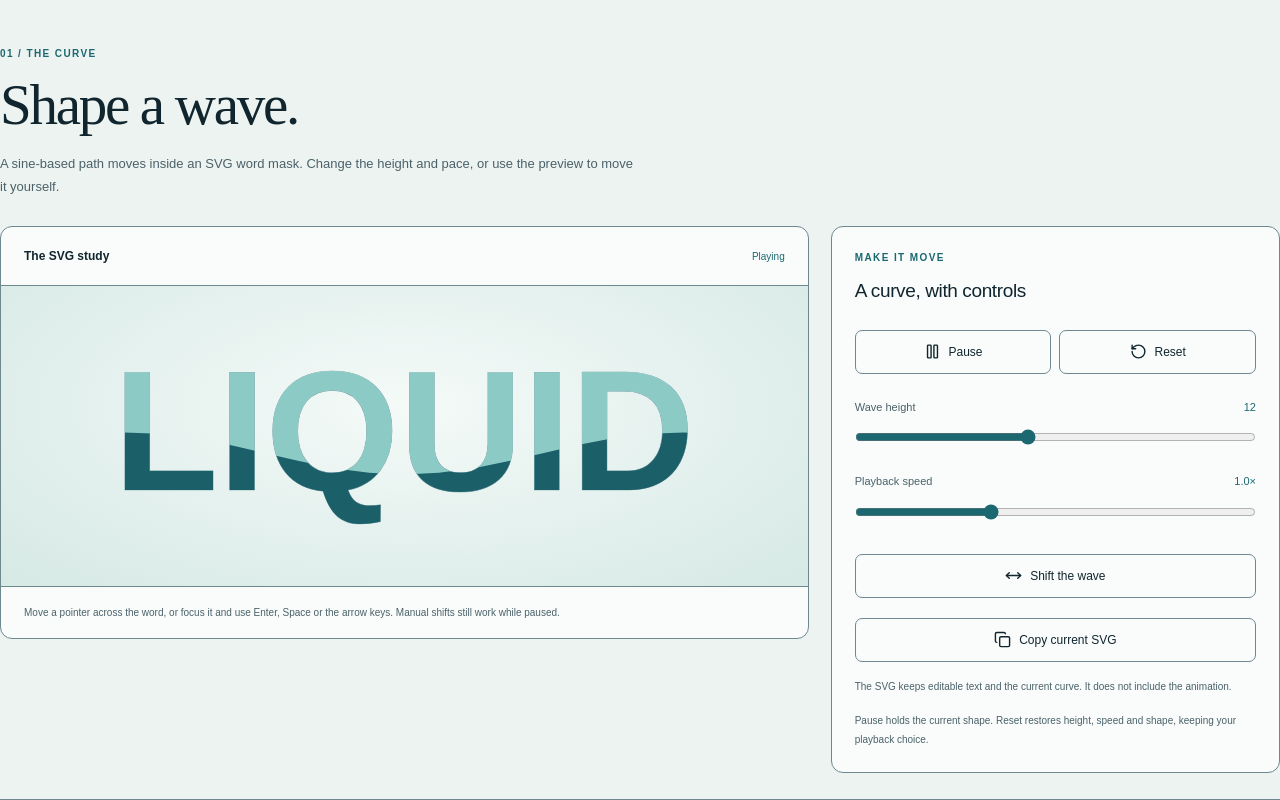
Test case: copies the actual current standalone SVG and exposes manual copy on clipboard failure
Click the button "Pause" at coordinates (953, 352), box [855, 330, 1051, 374]
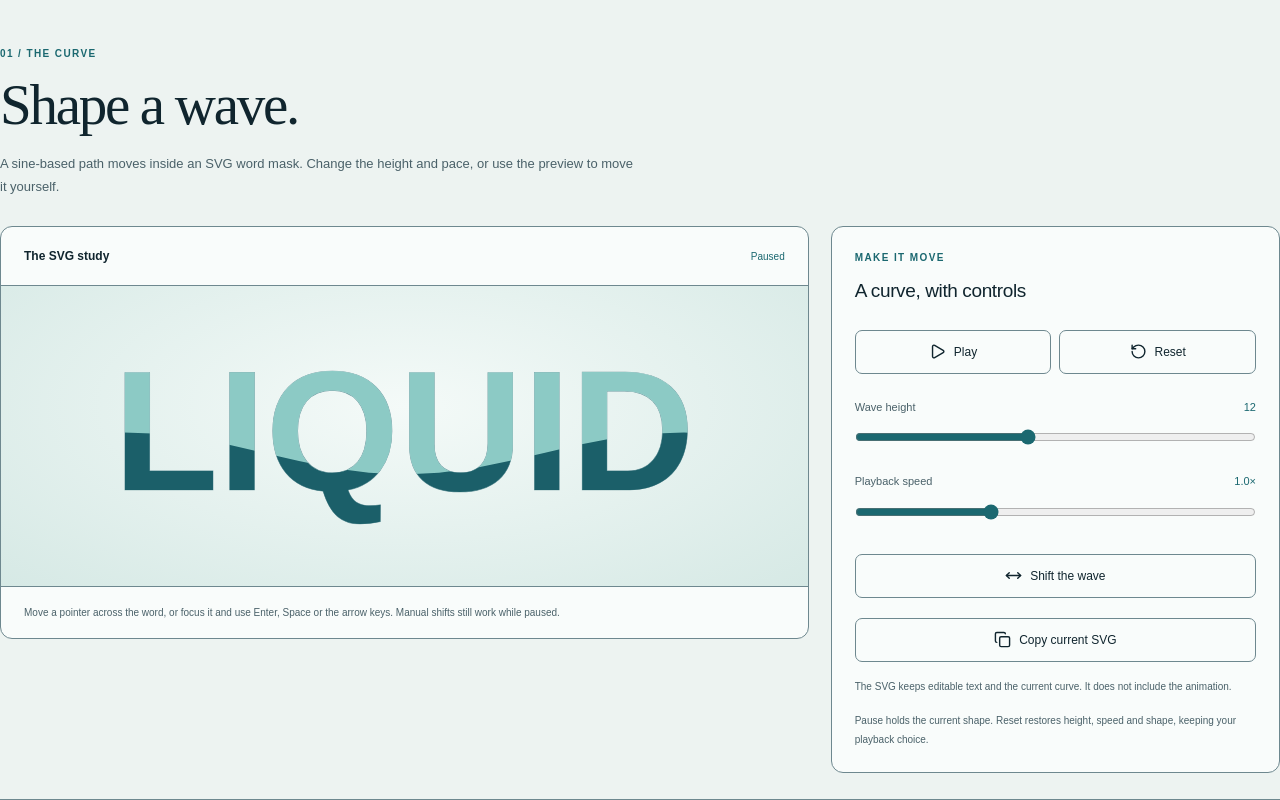
Click the button "Shift the wave" at coordinates (1055, 576), box [855, 554, 1256, 598]
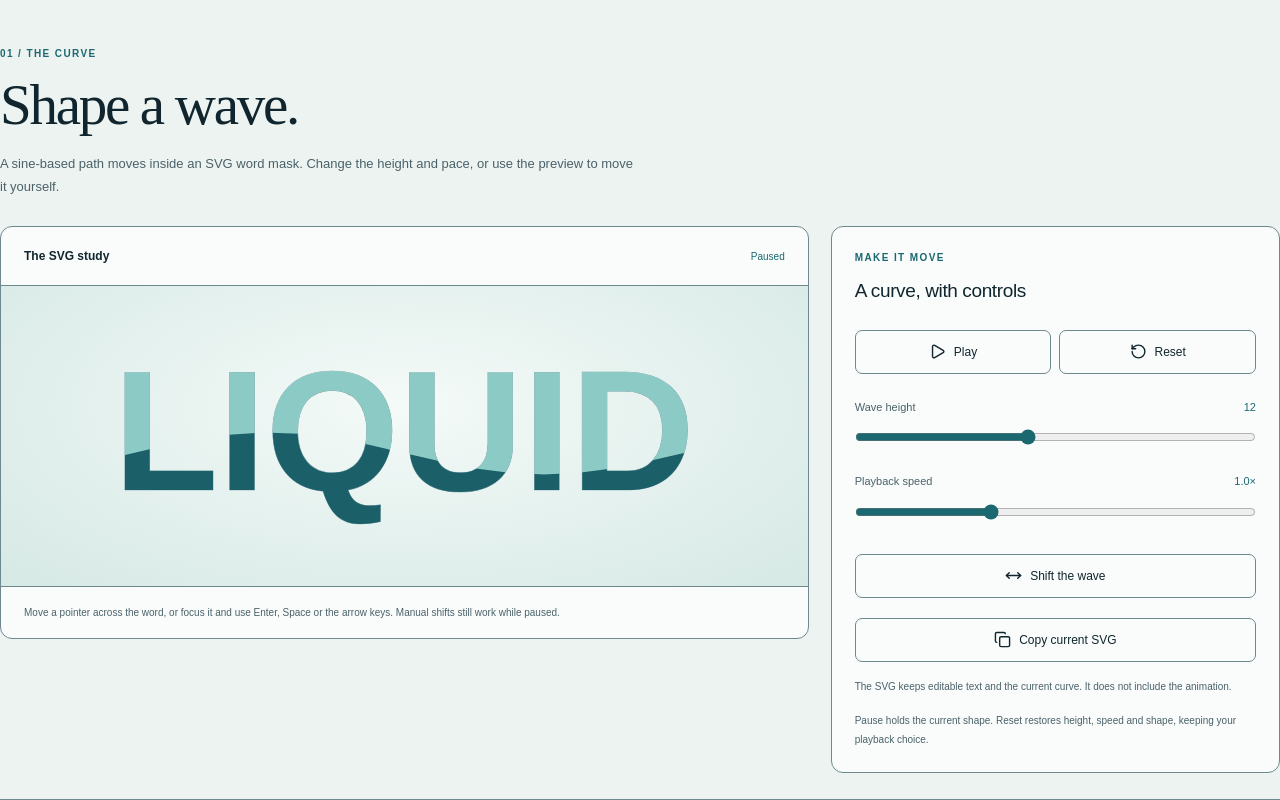
Click the button "Copy current SVG" at coordinates (1055, 640), box [855, 618, 1256, 662]
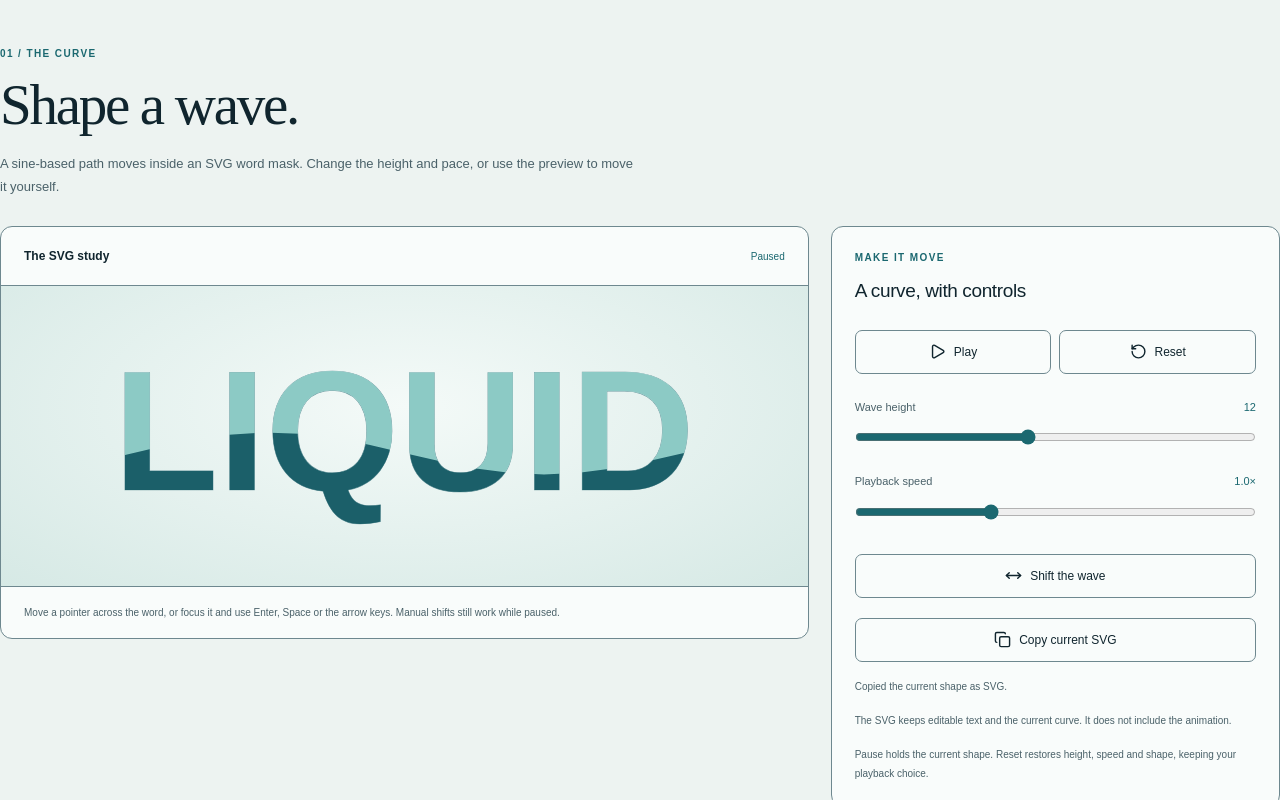
Result: the text "Copied the current shape as SVG." is shown at [855, 681, 1007, 692]
Click the button "Copy current SVG" at coordinates (1055, 640), box [855, 618, 1256, 662]
(page scrolled)
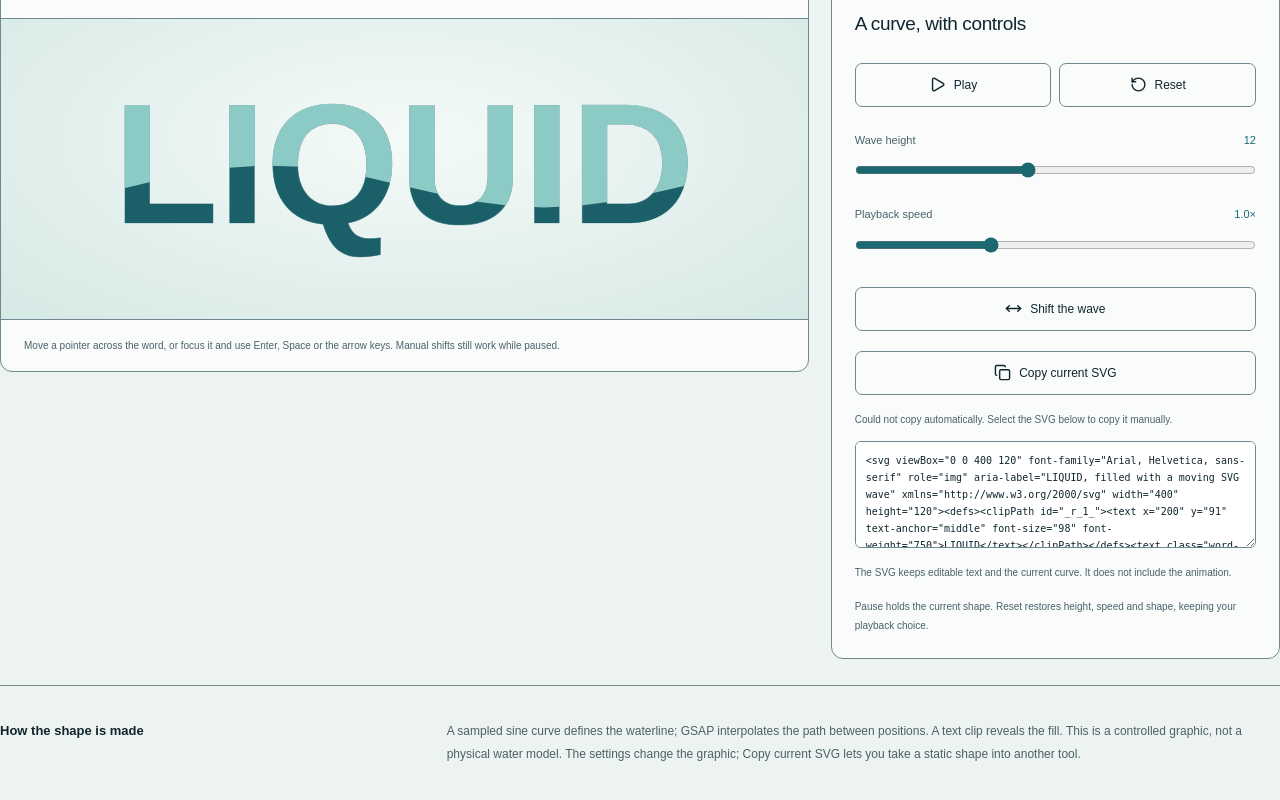
Result: the text box named "SVG source to copy manually" is shown at [855, 441, 1256, 548]
